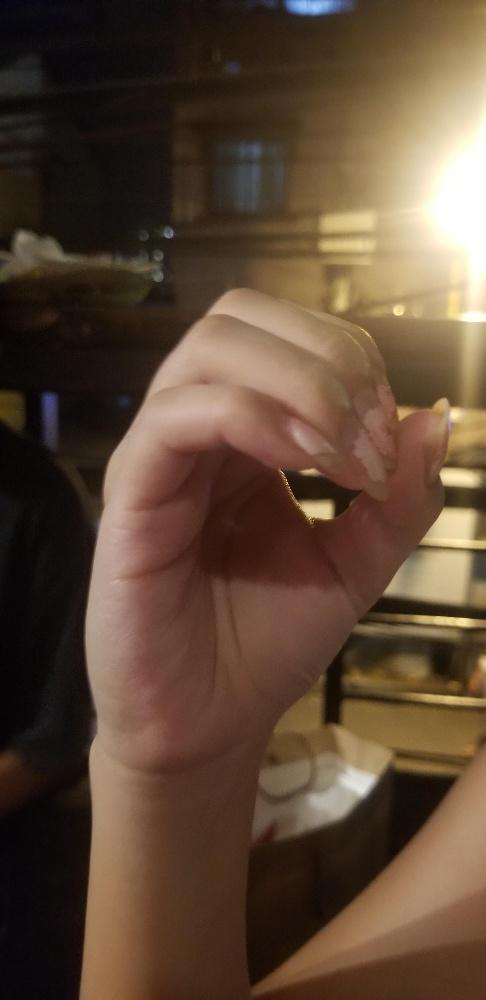o: (81, 281, 456, 781)
